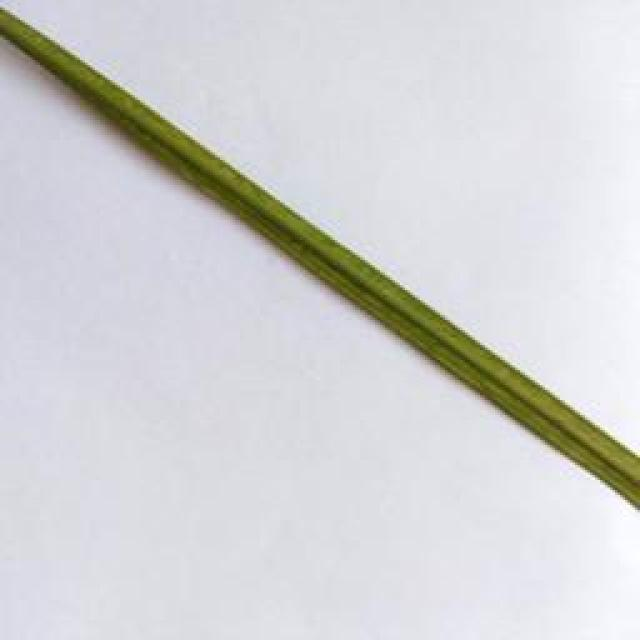Healthy-Plant: (0, 8, 640, 506)
